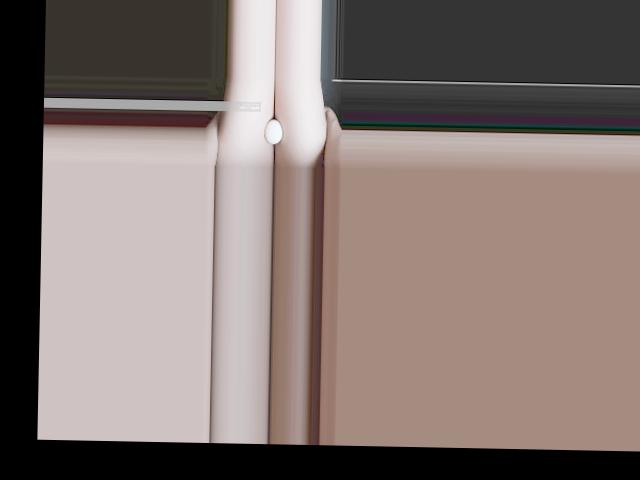egg: (264, 119, 282, 143)
